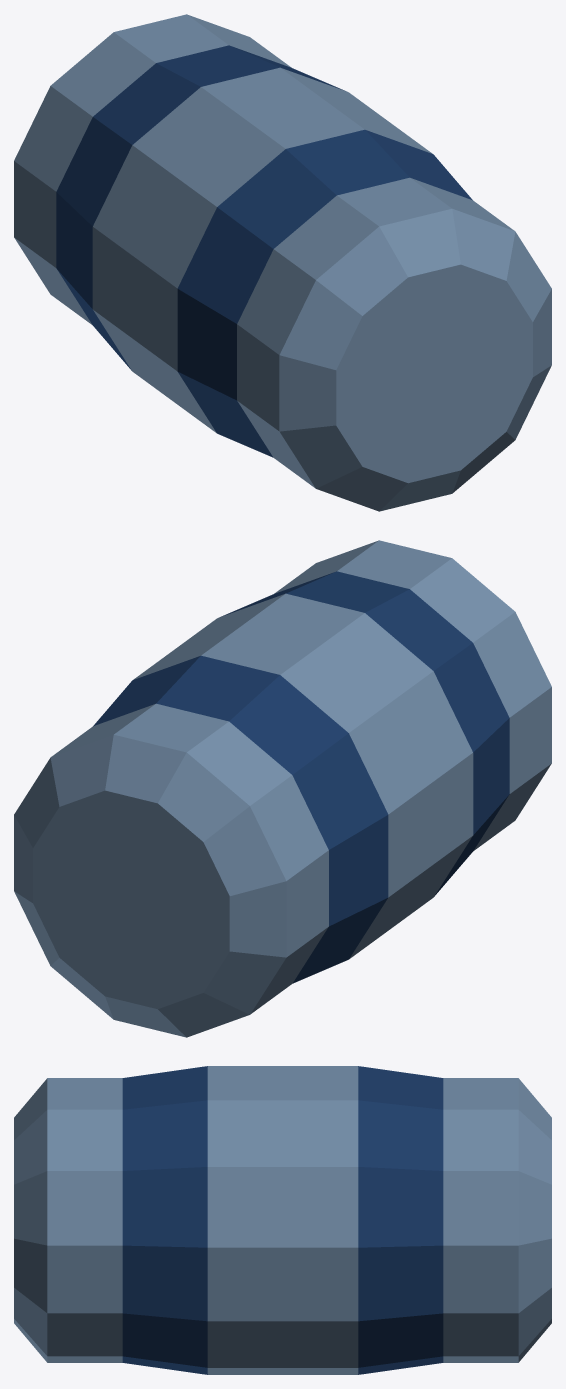
File: Container.glb
The picture shows the model from 3 angles, top to bottom: view 1: azimuth 30°, elevation 25°; view 2: azimuth 150°, elevation 25°; view 3: azimuth 270°, elevation 25°; orthographic projection. The views are drawn at different scales.
Visible parts, largest first — view 1: container.001; view 2: container.001; view 3: container.001.
Boxes of the visible parts, x1,y1,x2,y2 form: container.001: (14,14,551,511); container.001: (14,540,551,1037); container.001: (14,1066,551,1374).
Size of the model in its own units: 1.07 by 1.07 by 1.91.
Materials: 1 (1 with a texture image).
